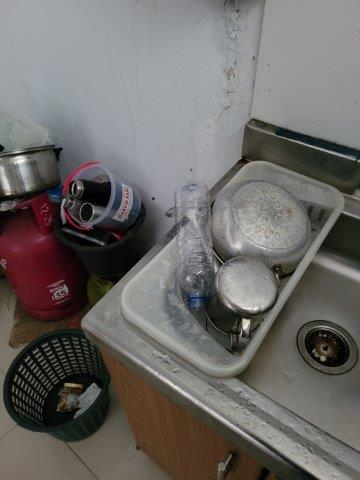botolplastik: (173, 184, 214, 311)
